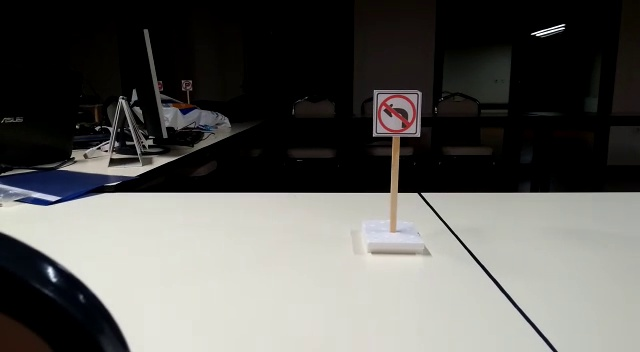sola_donulmez: (376, 94, 417, 138)
